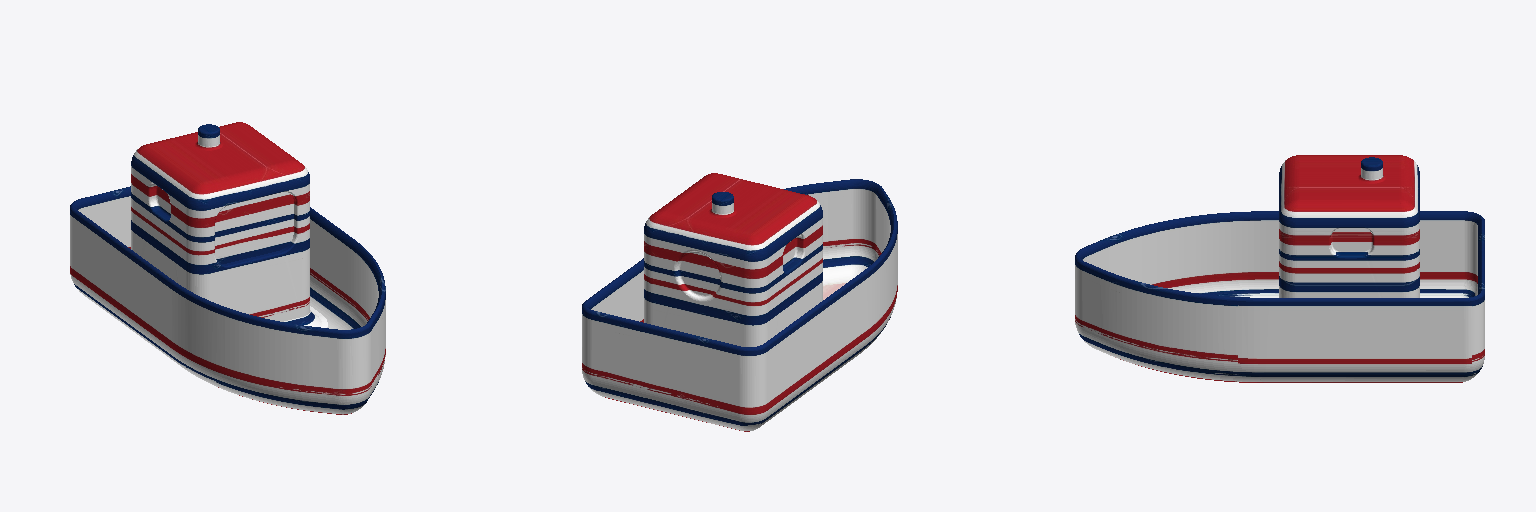
3 renders of one model, left to right at view 1: azimuth 30°, elevation 25°; view 2: azimuth 150°, elevation 25°; view 3: azimuth 270°, elevation 25°, orthographic.
Visible parts, largest first — view 1: boat; view 2: boat; view 3: boat.
Boxes of the visible parts, box(x1,y1,x2,y2) form: boat: box(70, 122, 385, 414); boat: box(582, 173, 897, 431); boat: box(1075, 155, 1484, 382).
Size of the model in its own units: 53.79 by 53.05 by 105.
1 materials, 1 textured.